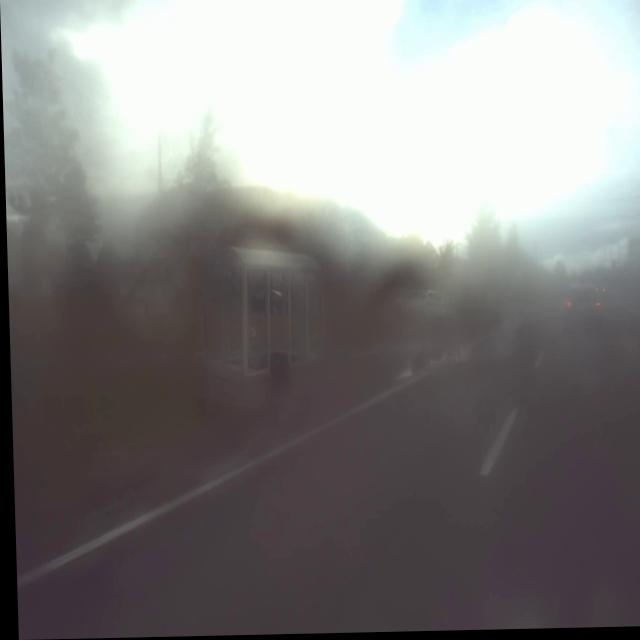car: (558, 280, 603, 341)
